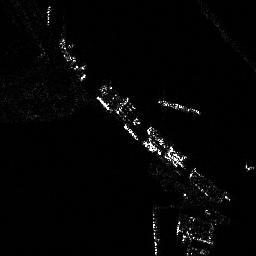ship: (157, 97, 201, 115)
